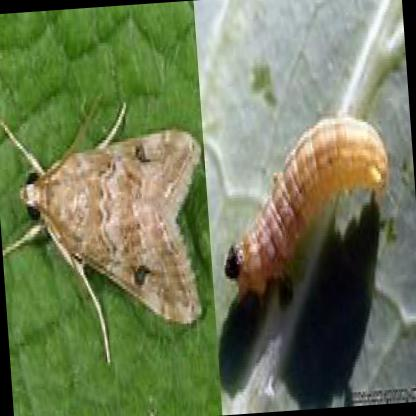Hellula undalis: (0, 80, 208, 372)
